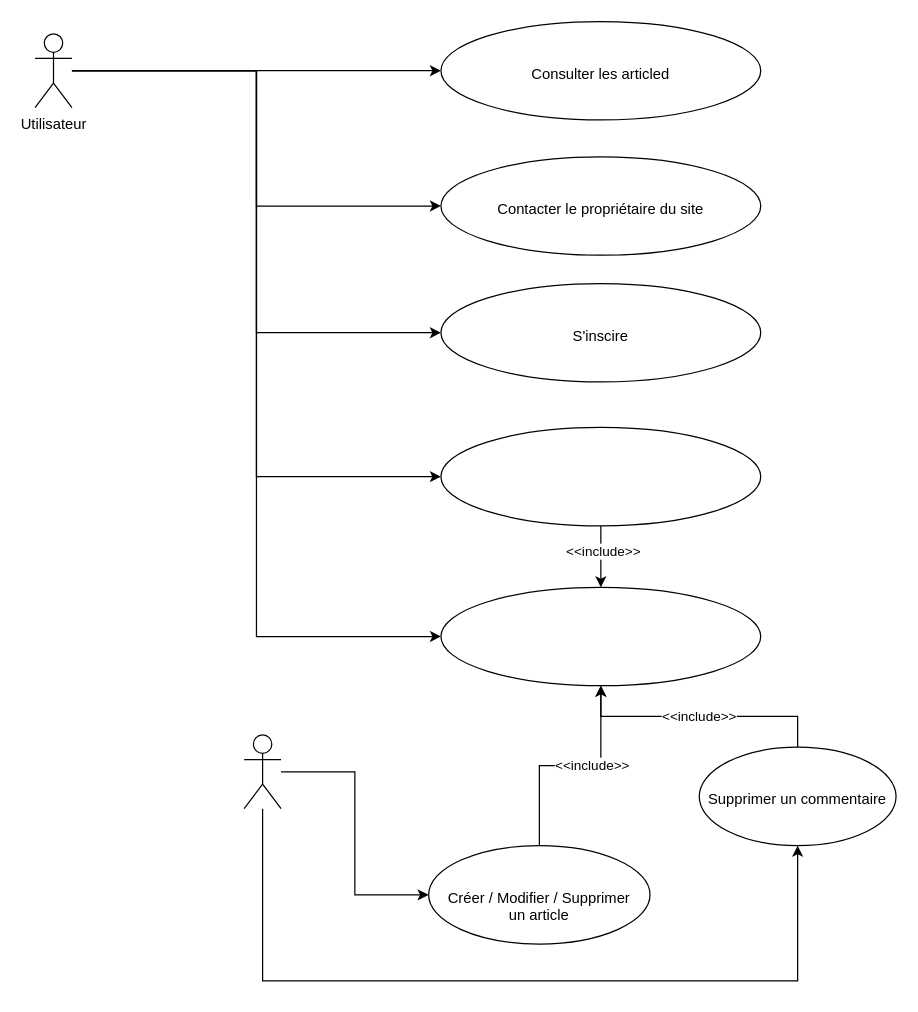
This 918x1012 diagram has some shape labels left out. Here are the shapes that lost their labels. From the top down, the centre of each, then its label:
At pixel 600 476: "Créer ou modifier un commentaire".
At pixel 600 636: "S'authentifier".
At pixel 262 771: "Administrateur".
